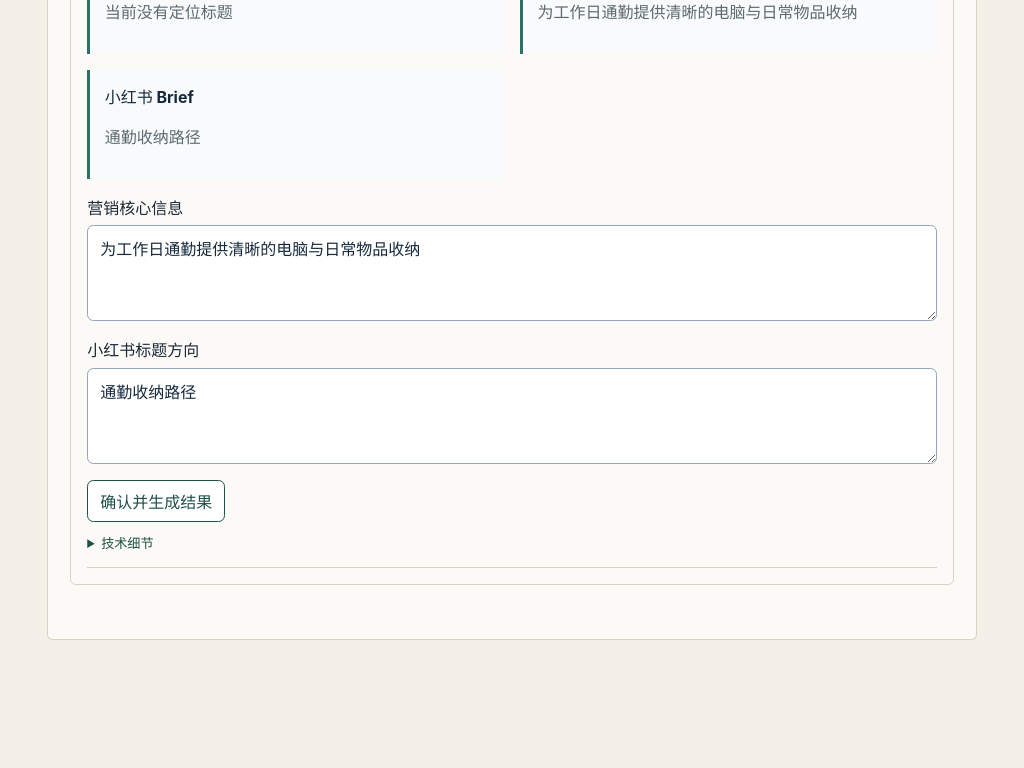
Test case: TaskRoutes › keeps Review in place with a safe status when confirmation fails
(page scrolled)
What coordinates should you click on to do the following:
click the button "确认并生成结果"
I would click on:
 (156, 501)
Its box is [87,480,225,522].
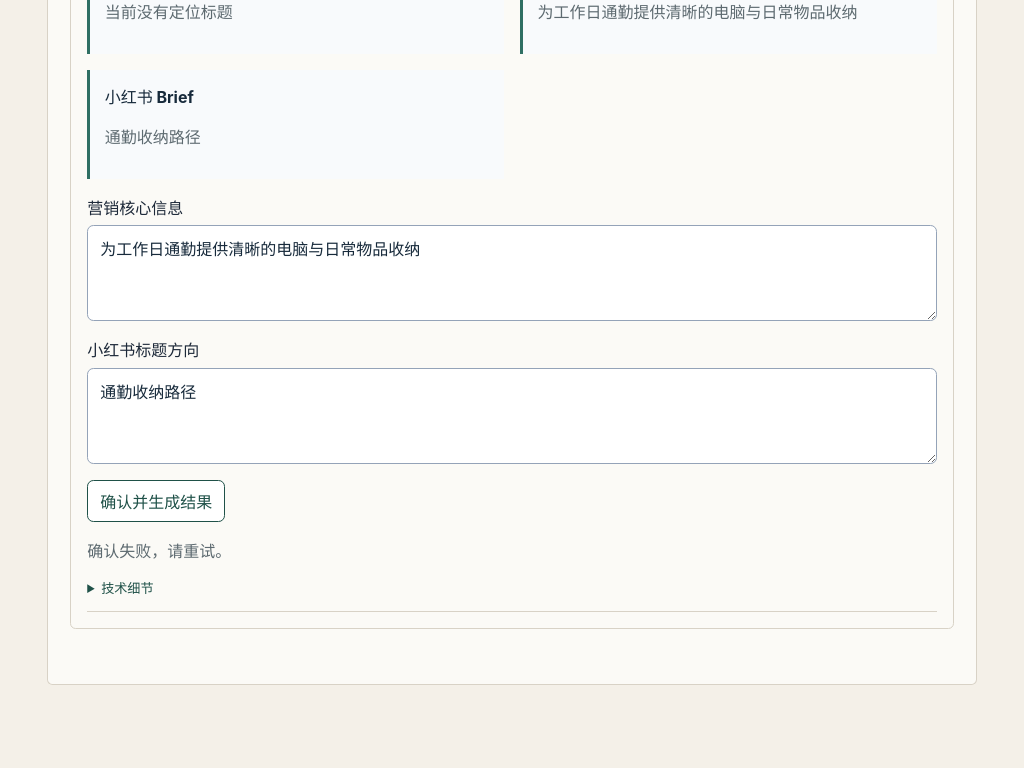
Expected: the text "确认失败，请重试。" is shown, [87,541,231,561]
